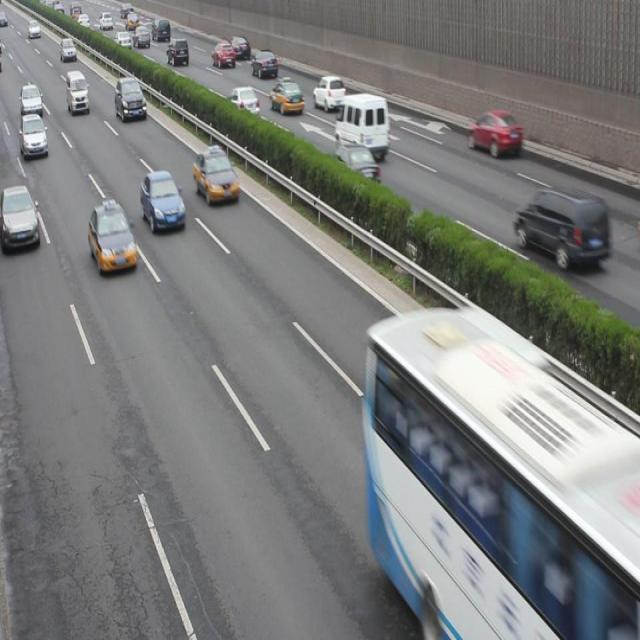car: (89, 200, 138, 276), (141, 172, 185, 232), (193, 147, 240, 201), (0, 185, 40, 248), (467, 111, 521, 156), (328, 143, 381, 184), (268, 77, 304, 114), (115, 76, 146, 118), (19, 114, 48, 156), (312, 74, 344, 112), (227, 87, 260, 118), (19, 84, 43, 115), (250, 51, 278, 76), (166, 37, 189, 66), (210, 41, 234, 68), (228, 34, 250, 60), (60, 36, 76, 60), (113, 30, 131, 50), (133, 26, 150, 47)
truck: (512, 186, 610, 270), (336, 91, 388, 160), (66, 71, 90, 113), (151, 18, 170, 42)
van: (366, 304, 640, 640)
